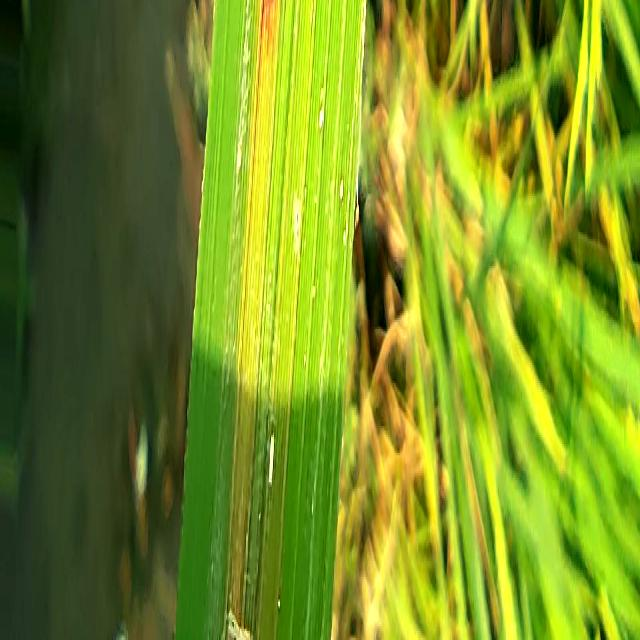LEAF BLAST: (265, 0, 268, 5)
